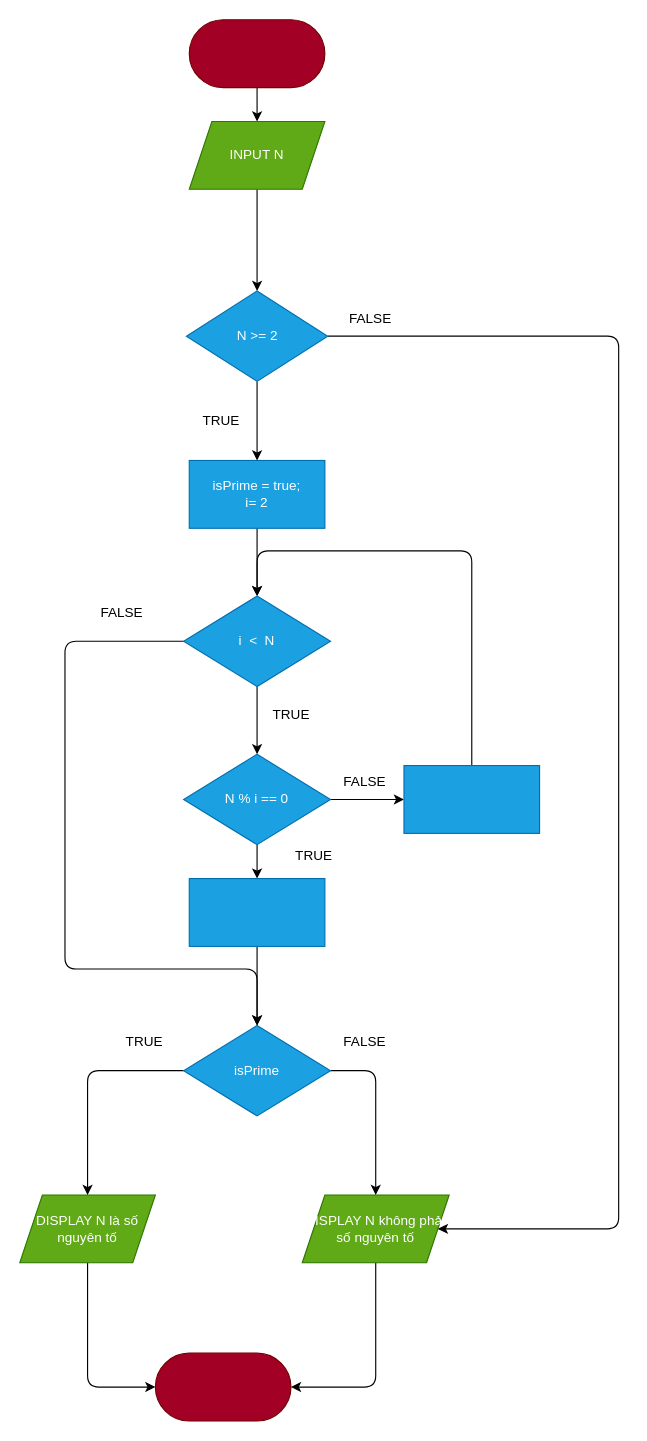
The diagram is 647 pixels wide and 1441 high, and some of its shapes have lost their labels. Here are the shapes that lost their labels. From the top down, the centre of each, then its label:
pixel 256 53: BEGIN
pixel 471 798: i = i + 1
pixel 256 911: isPrime = false
pixel 222 1386: END
